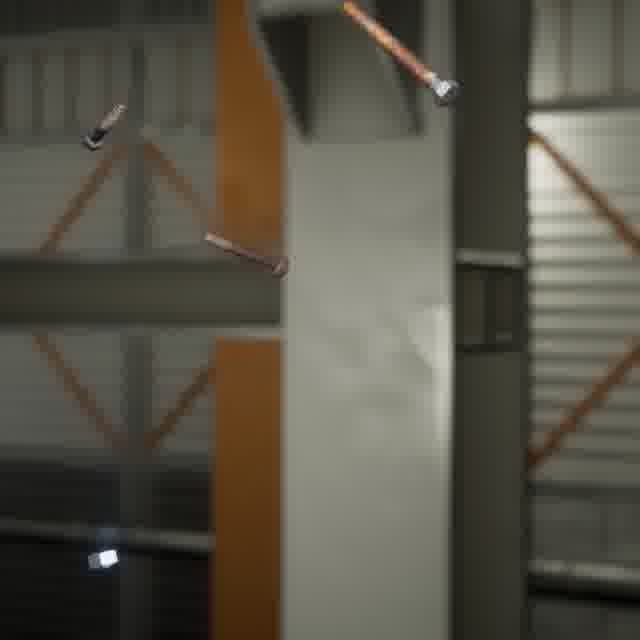bolt: (336, 0, 463, 110), (196, 225, 294, 282), (77, 97, 130, 155)
nut: (83, 544, 126, 574)
